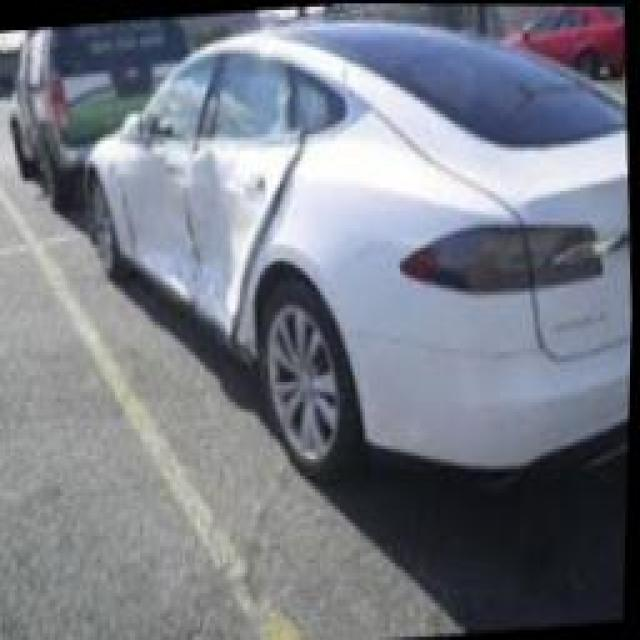Door: (186, 54, 301, 332)
